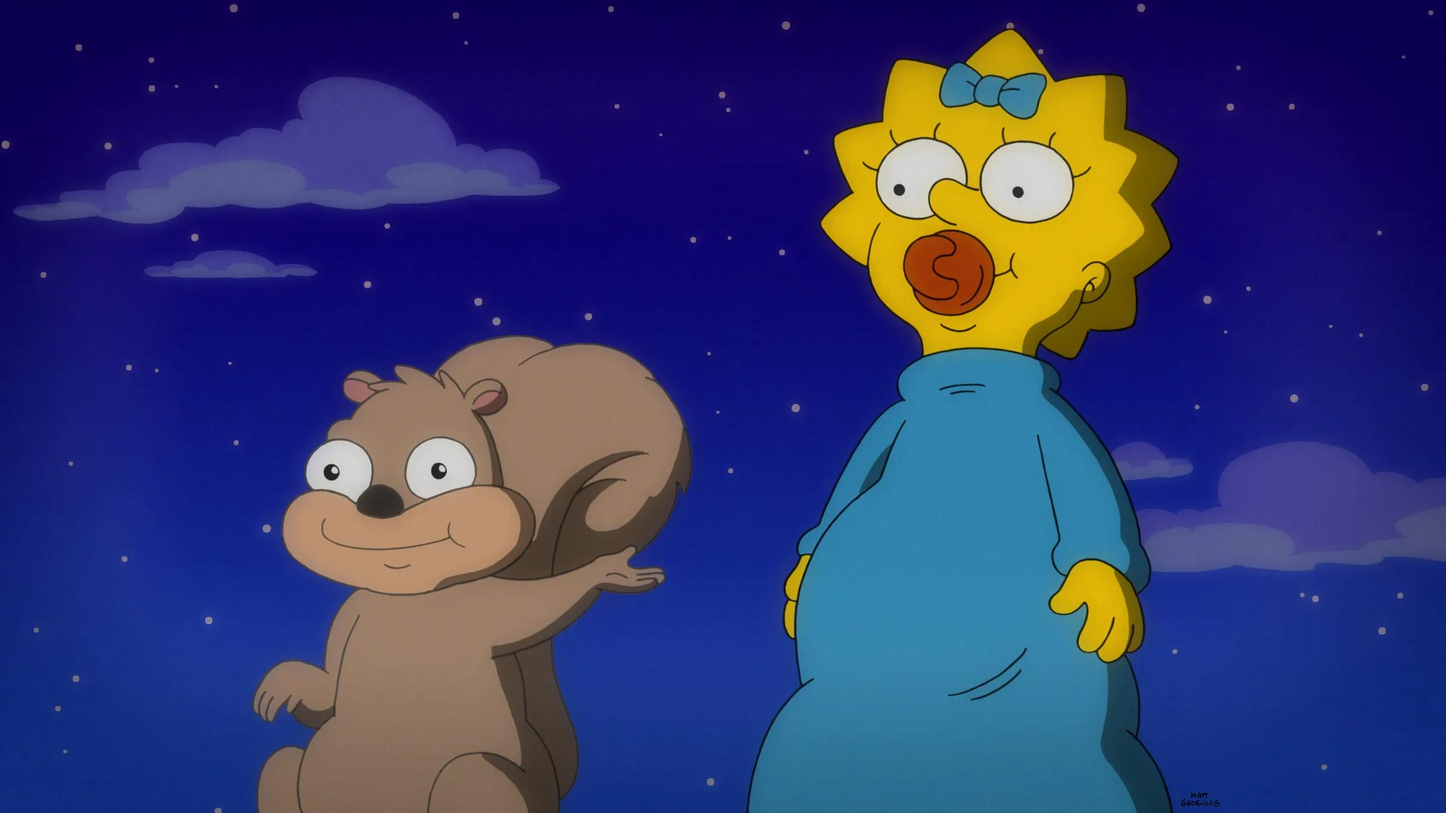Maggie: (759, 18, 1199, 813)
